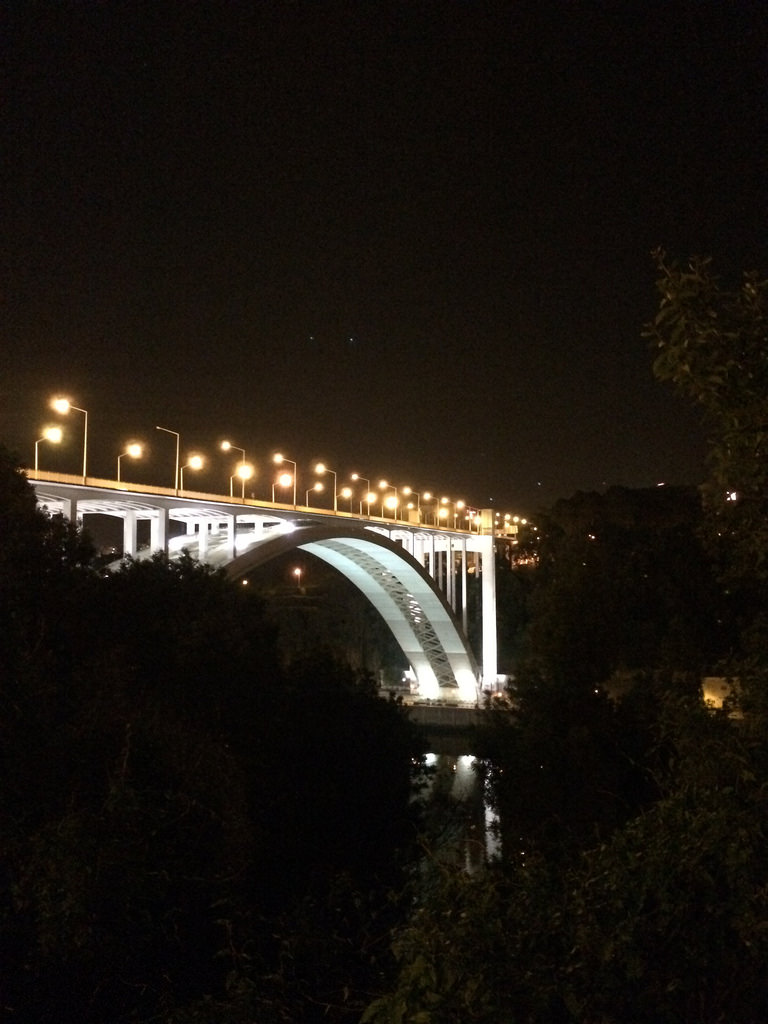arrabida: (14, 463, 502, 717)
